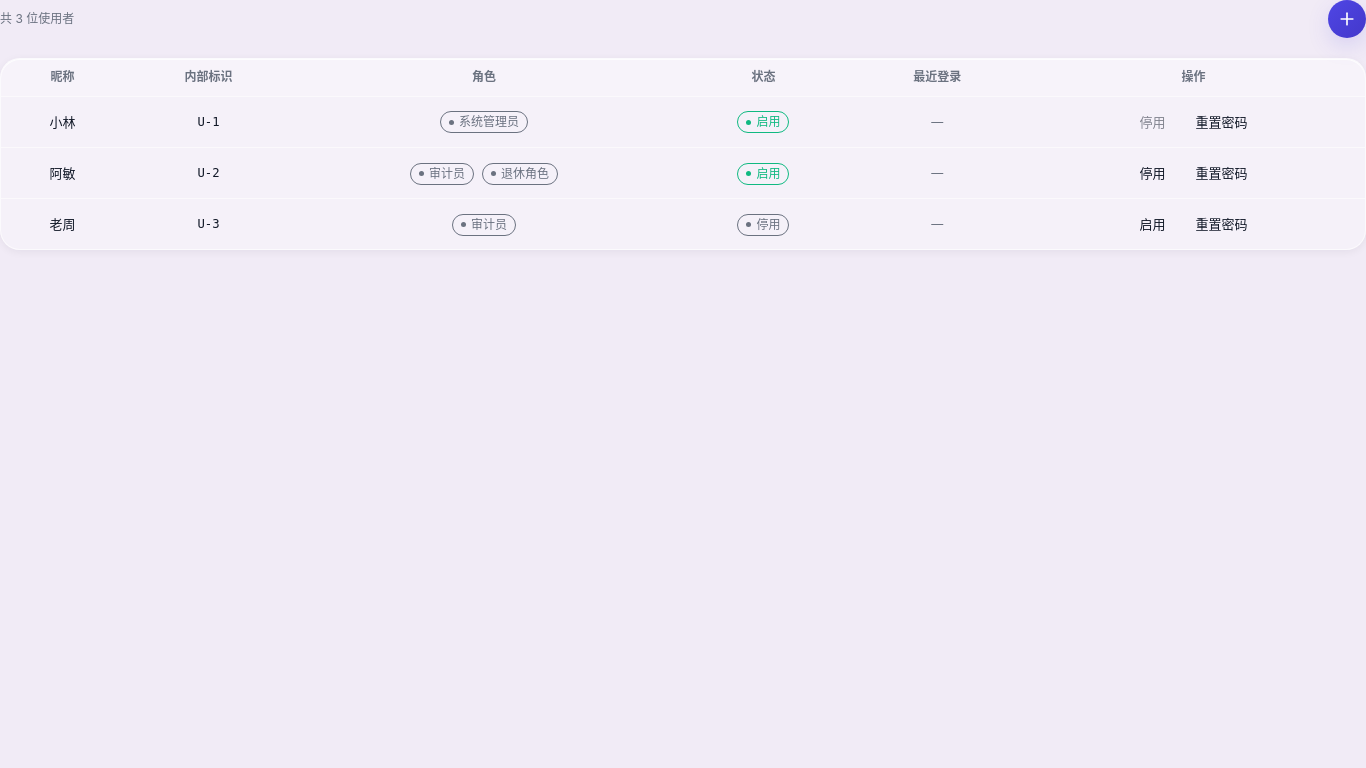
Test: 用户管理：调整角色 › 点击角色标签即打开调整弹窗，不再有独立的「调整角色」按钮
Expected: the text "调整角色" is not shown
Click the button with aria-label "调整 阿敏 的角色": [484, 173] box [410,161,558,184]
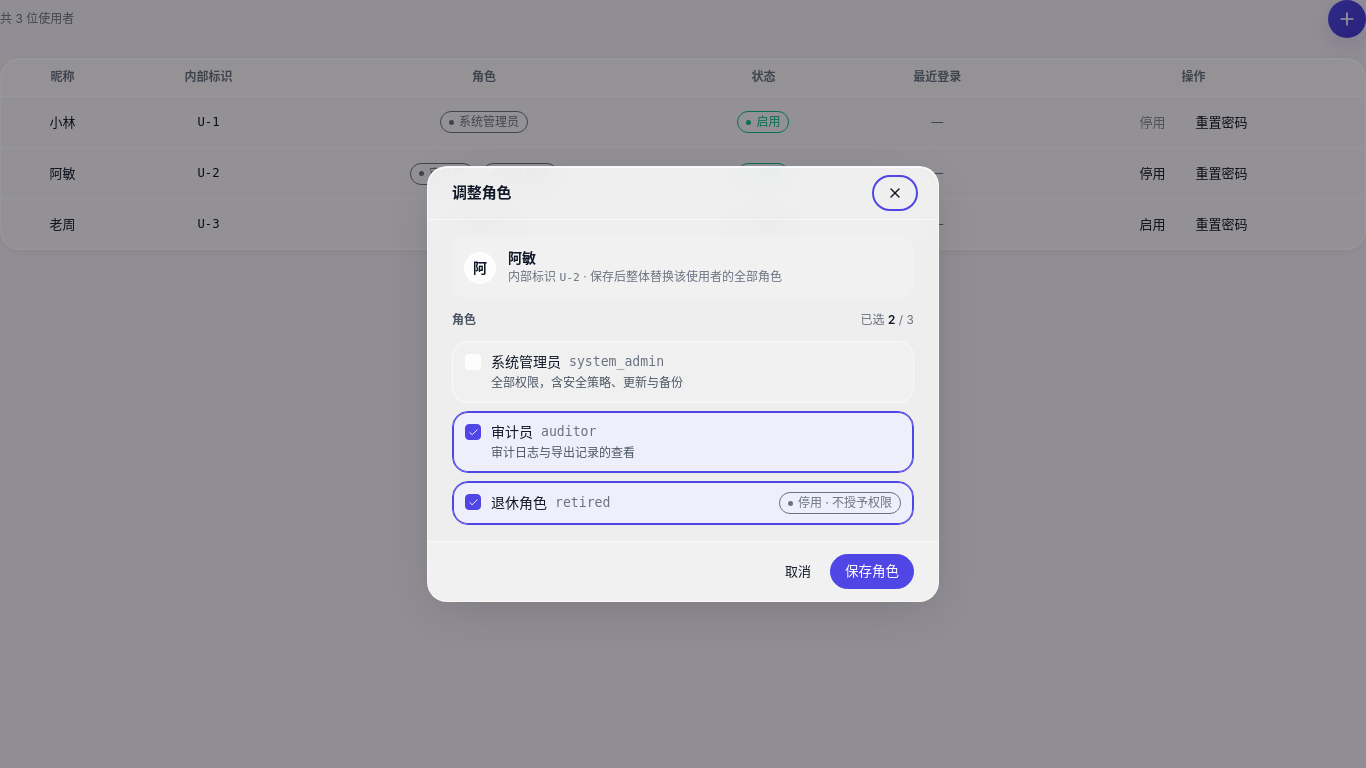
Expected: the dialog "调整角色" is shown, [427,166,939,602]
